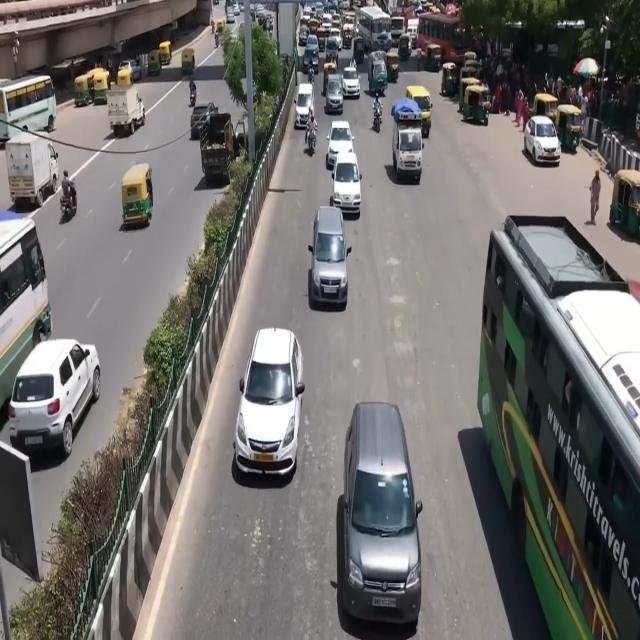auto: (116, 156, 161, 234), (107, 84, 145, 138), (609, 170, 640, 236), (406, 84, 432, 138), (555, 104, 583, 153), (464, 84, 492, 127), (532, 92, 559, 130), (87, 68, 111, 104), (460, 66, 480, 106), (74, 73, 95, 107), (441, 62, 459, 98), (424, 41, 442, 72), (385, 48, 399, 82), (398, 33, 413, 61), (148, 48, 162, 76), (117, 62, 133, 86), (181, 48, 195, 75), (158, 40, 172, 66), (463, 50, 478, 74), (215, 17, 225, 38)
bike-auto: (56, 168, 80, 230), (304, 120, 318, 157), (372, 101, 383, 133), (188, 85, 196, 107)
